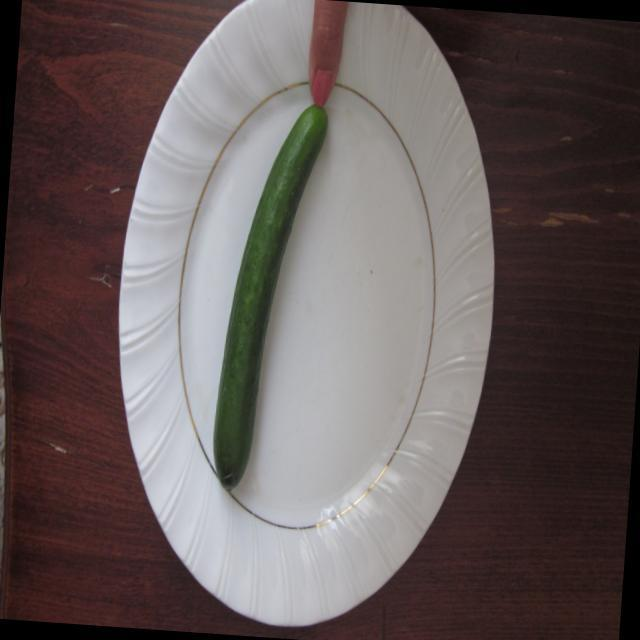Cucumber: (203, 104, 338, 504)
Finger: (297, 6, 357, 112)
